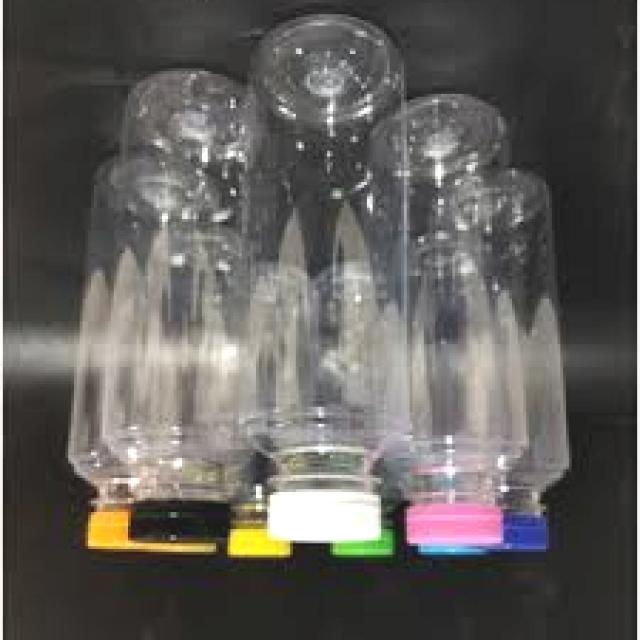bottle: (52, 73, 248, 553), (241, 19, 418, 538), (398, 46, 534, 553), (477, 143, 560, 570)
